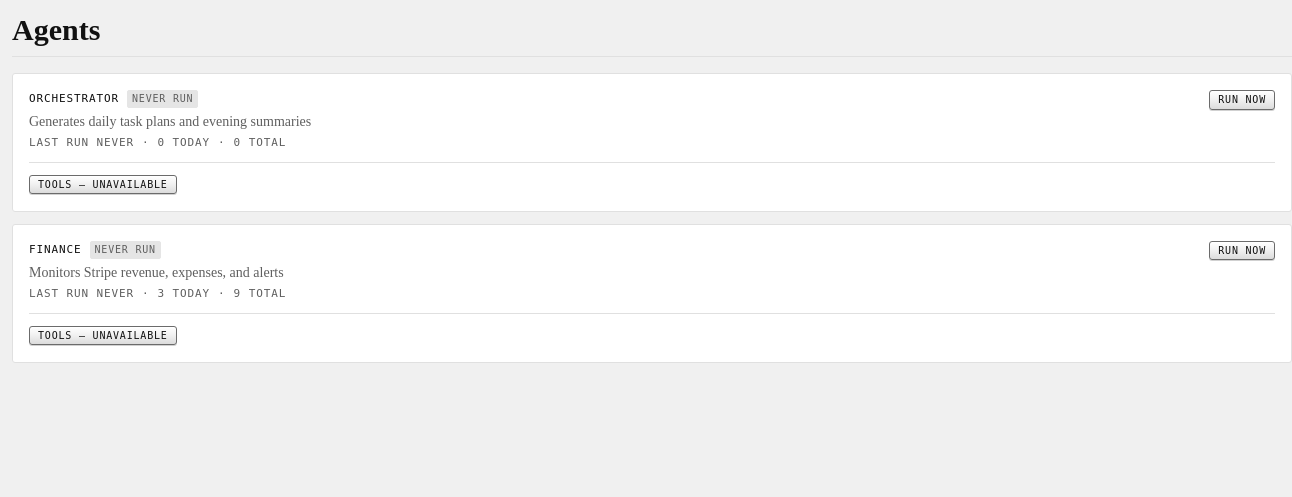
Test: Agents page toolbox (V20 L4) › a failed capabilities read shows the SHARED named error with a working Retry — never an empty toolbox
Click the button "Tools — unavailable" below "Orchestrator" at (103, 185), box [29,175,177,194]
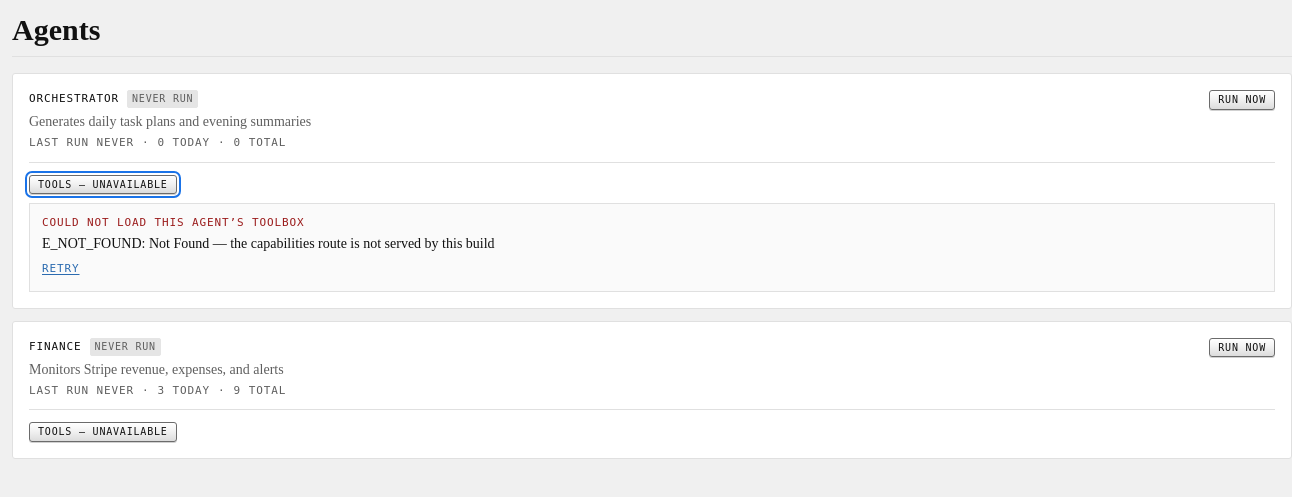
Result: the message with test id "agents-tools-error" shows "E_NOT_FOUND" at [42,236,495,250]
Result: the message with test id "agents-tools-error" shows "the capabilities route is not served by this build" at [42,236,495,250]
Click the button "Retry" at (61, 268), box [42,262,80,275]
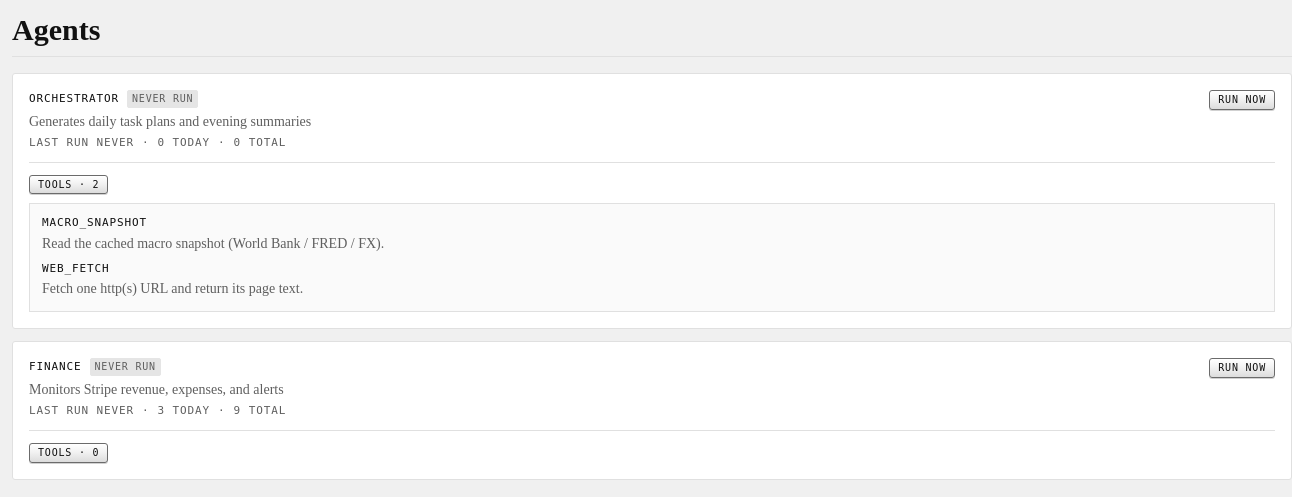
Result: the text "macro_snapshot" is shown at [42,216,147,229]
Result: the message with test id "agents-tools-error" is gone
